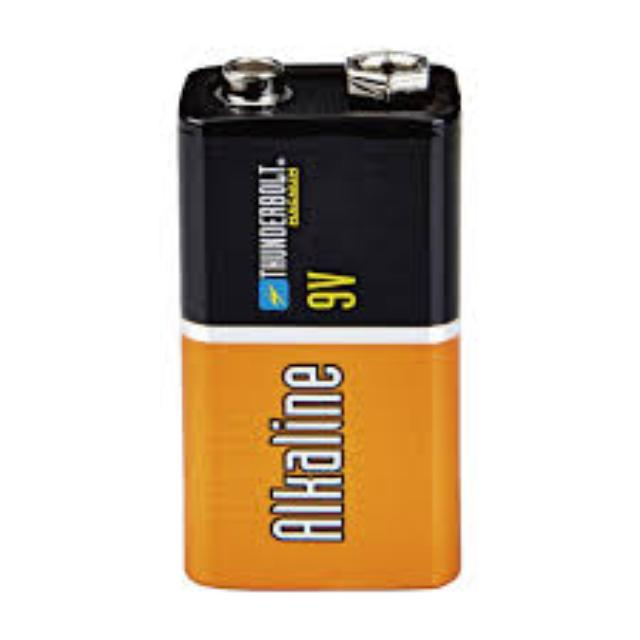Battery: (179, 51, 464, 594)
